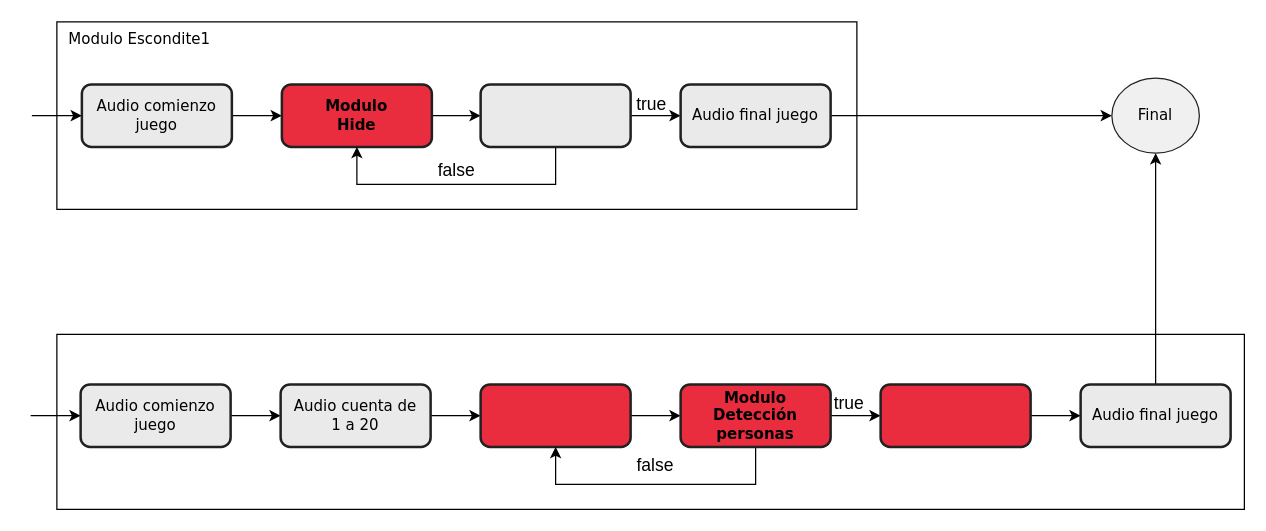
This 1266x531 diagram has some shape labels left out. The box of each missing label's shape, as (x1, y1, x2, y2) in pixels:
Botón pulsado?: (479, 82, 631, 148)
Modulo Escondite2: (56, 333, 1244, 509)
Modulo Follow: (879, 382, 1031, 448)
Modulo Search: (479, 382, 631, 448)
